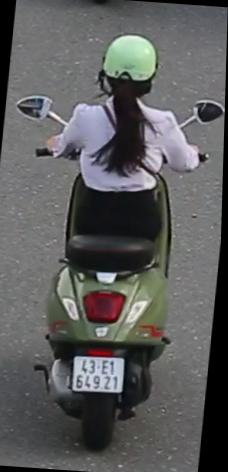LP: (73, 350, 131, 396)
helmet: (97, 29, 162, 106)
